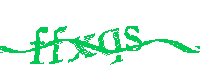f: (48, 24, 66, 65), (30, 26, 47, 65)
q: (99, 27, 124, 66)
s: (124, 26, 142, 52)
x: (69, 34, 97, 63)
